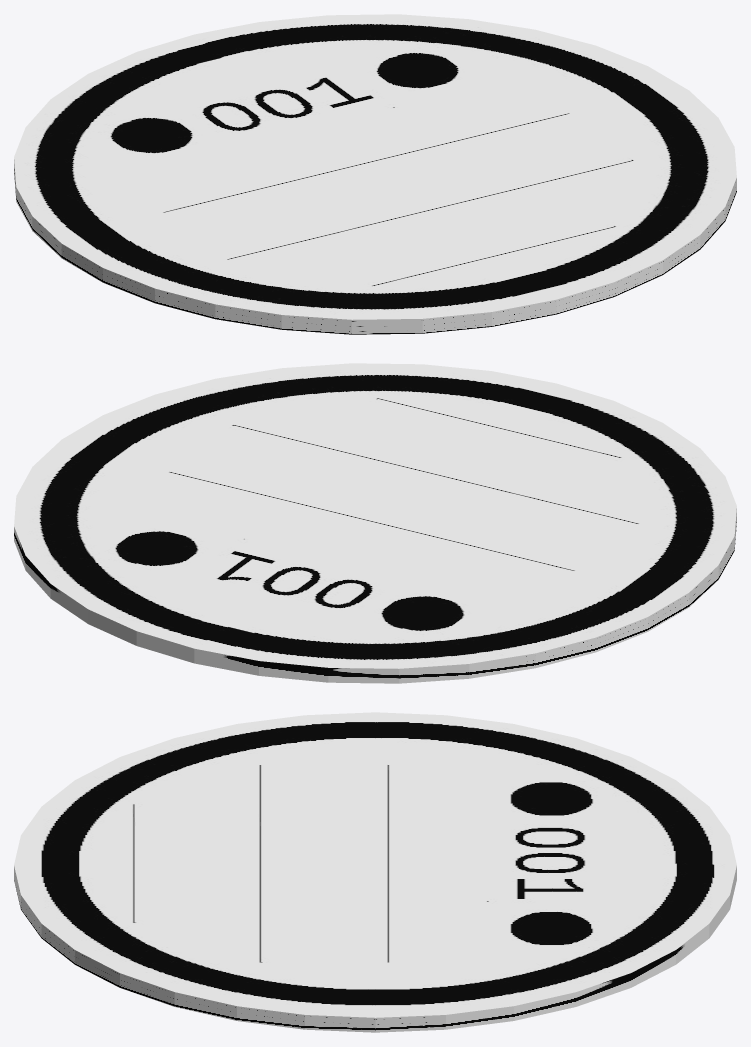
File: sticker.glb
3 renders of one model, top to bottom at view 1: azimuth 30°, elevation 25°; view 2: azimuth 150°, elevation 25°; view 3: azimuth 270°, elevation 25°, orthographic.
Visible parts, largest first — view 1: Cylinder; view 2: Cylinder; view 3: Cylinder.
Part boxes in pixels (left/top/right/bottom): Cylinder: left=14, top=14, right=736, bottom=334; Cylinder: left=14, top=363, right=736, bottom=683; Cylinder: left=14, top=712, right=736, bottom=1032.
Bounding box in the file's own units: 2 × 0.0453 × 2.
1 material, 1 textured.
